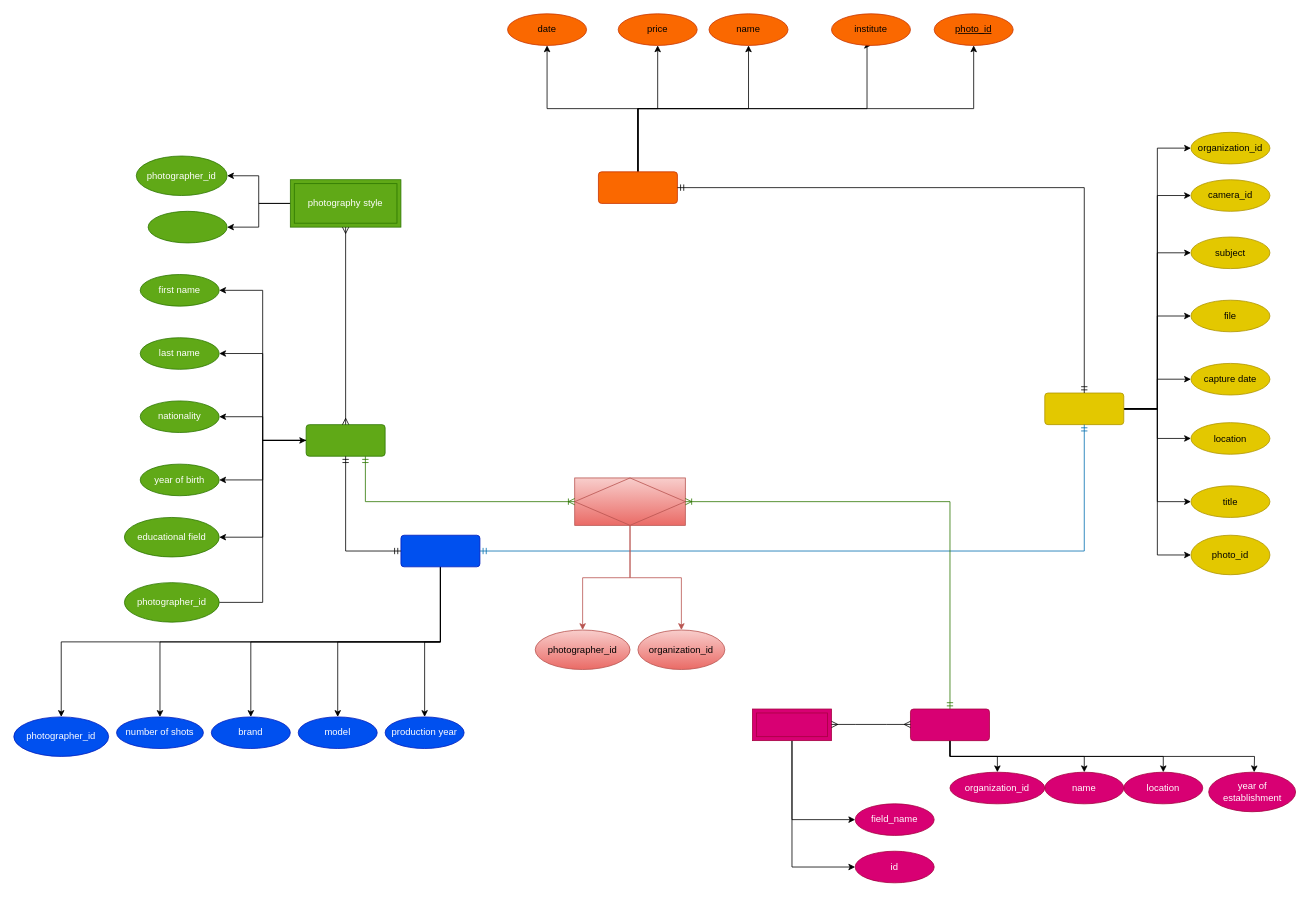
The diagram is 1310 pixels wide and 897 high, and some of its shapes have lost their labels. The centre of each missing label's shape, as x and y in pixels:
Award: point (637, 187)
Camera: point (440, 550)
field: point (791, 724)
Organization: point (949, 724)
ph to org: point (629, 501)
Photo: point (1084, 408)
Photographer: point (345, 440)
style: point (187, 227)
